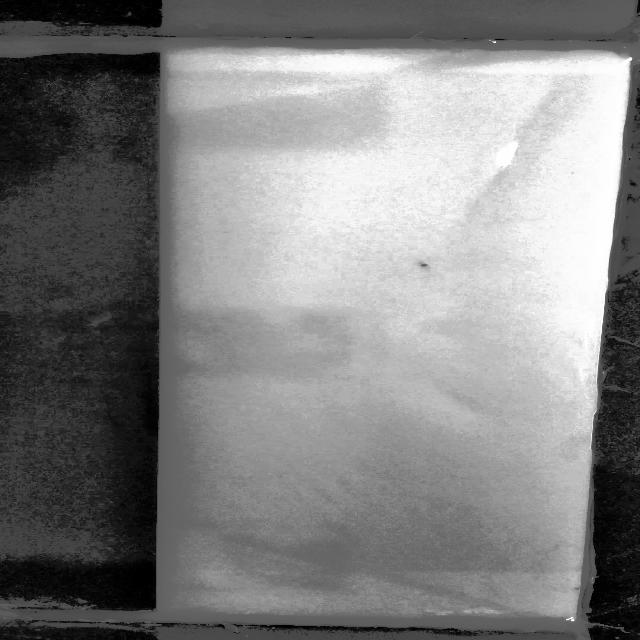shrimp: (415, 257, 435, 271)
